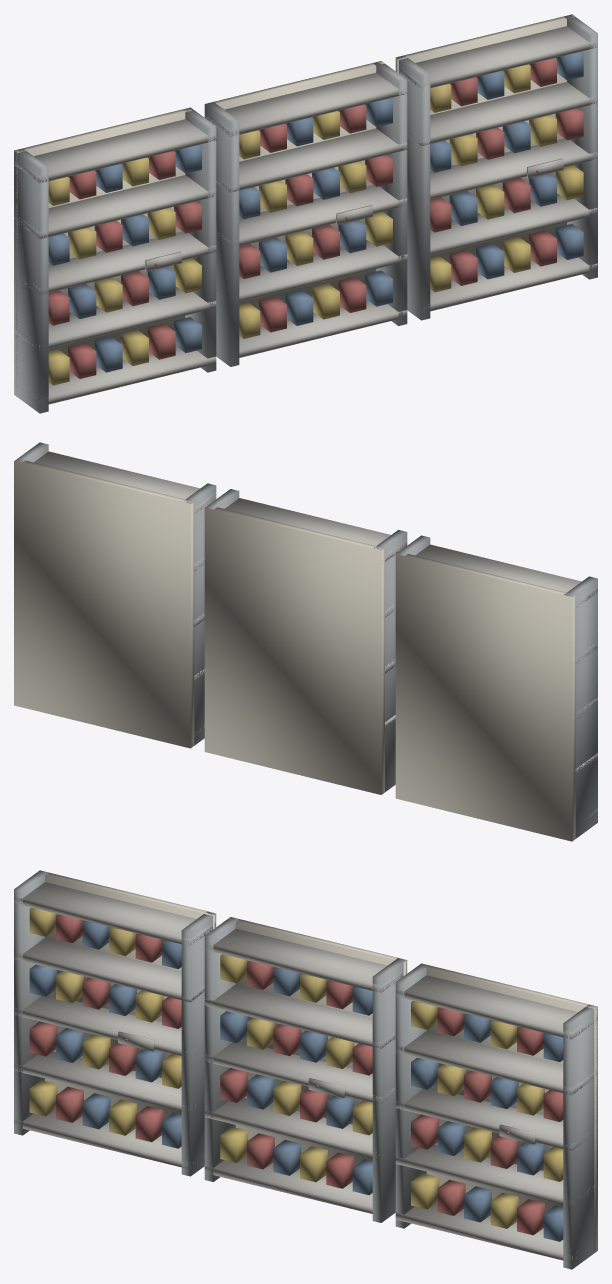
Rendered from pharmacy_shelf__cluster.glb.
3 views of the same model, one above another, from view 1: azimuth 30°, elevation 25°; view 2: azimuth 150°, elevation 25°; view 3: azimuth 330°, elevation 25° (orthographic).
Visible parts, largest first — view 1: world; view 2: world; view 3: world.
Boxes of the visible parts, bbox=[...] form: world: bbox=[14, 14, 597, 413]; world: bbox=[14, 442, 597, 841]; world: bbox=[14, 870, 597, 1269].
Bounding box in the file's own units: 4.42 × 1.85 × 0.386.
